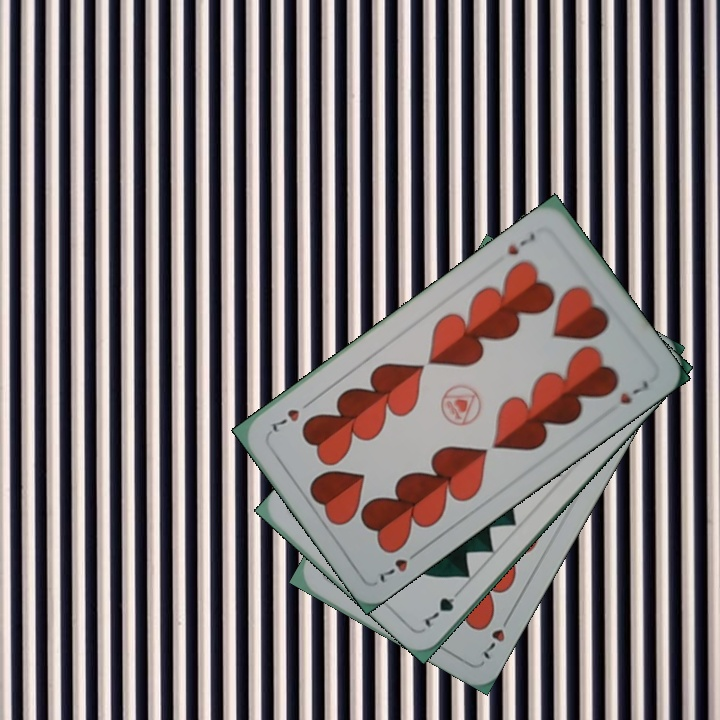G7: (420, 583, 466, 630)
H7: (375, 545, 424, 586), (477, 610, 514, 662), (503, 229, 538, 258)
